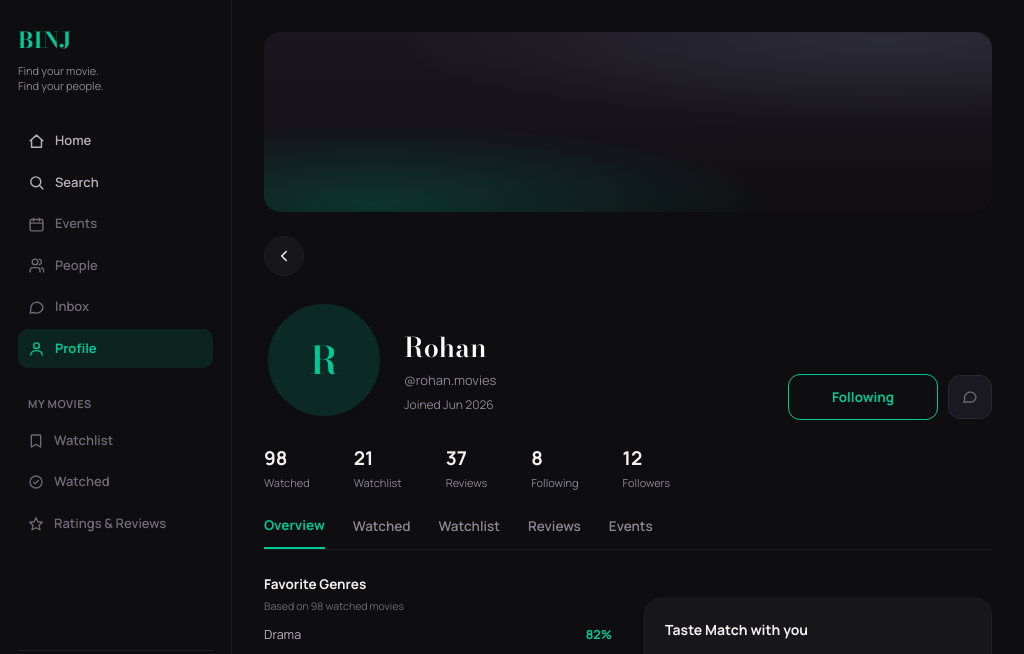
Test: Profile › unfollows when clicking Following
This screenshot has width=1024, height=654.
Step 1. Click the button "Following" → (863, 397), box x1=788 y1=374 x2=938 y2=420
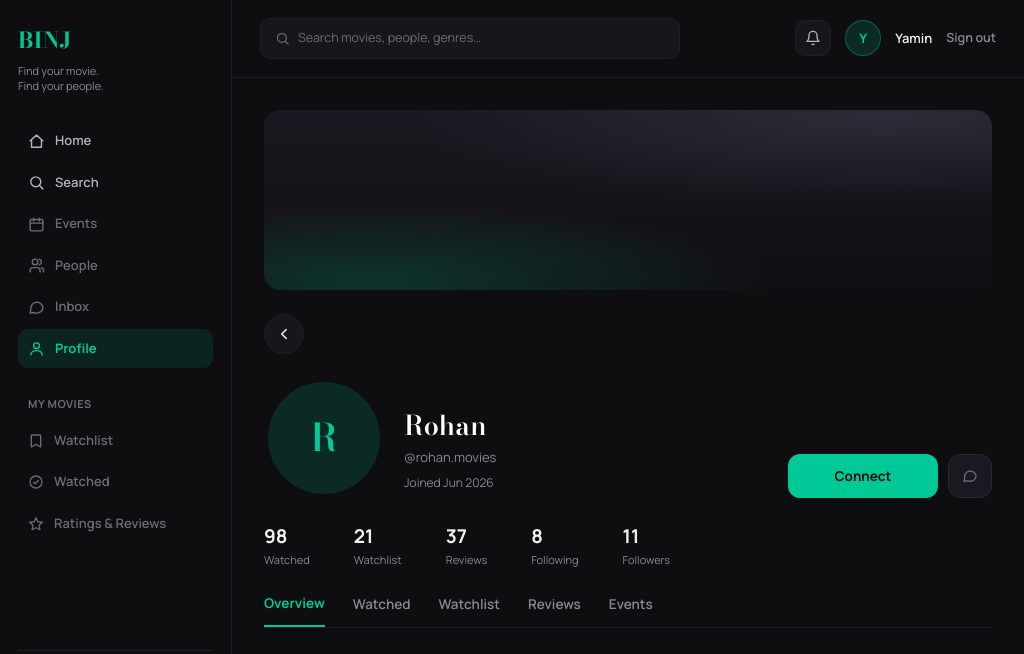
expect the button "Connect" is shown: met, box x1=788 y1=454 x2=938 y2=498
